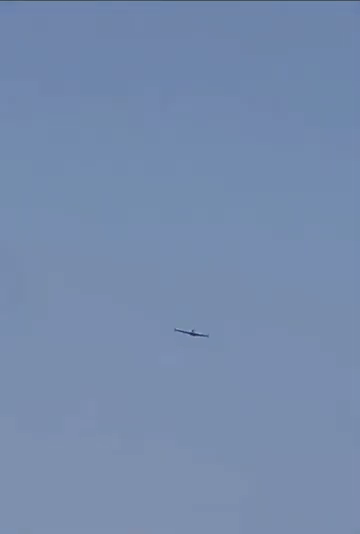shahed: (173, 326, 209, 339)
